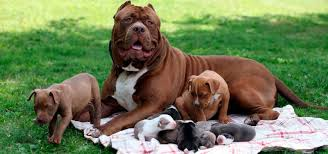Perro Pitbull: (97, 1, 180, 111), (21, 82, 79, 140), (183, 69, 230, 117)
